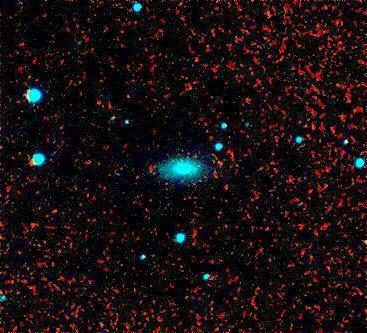star: (251, 30, 281, 60)
